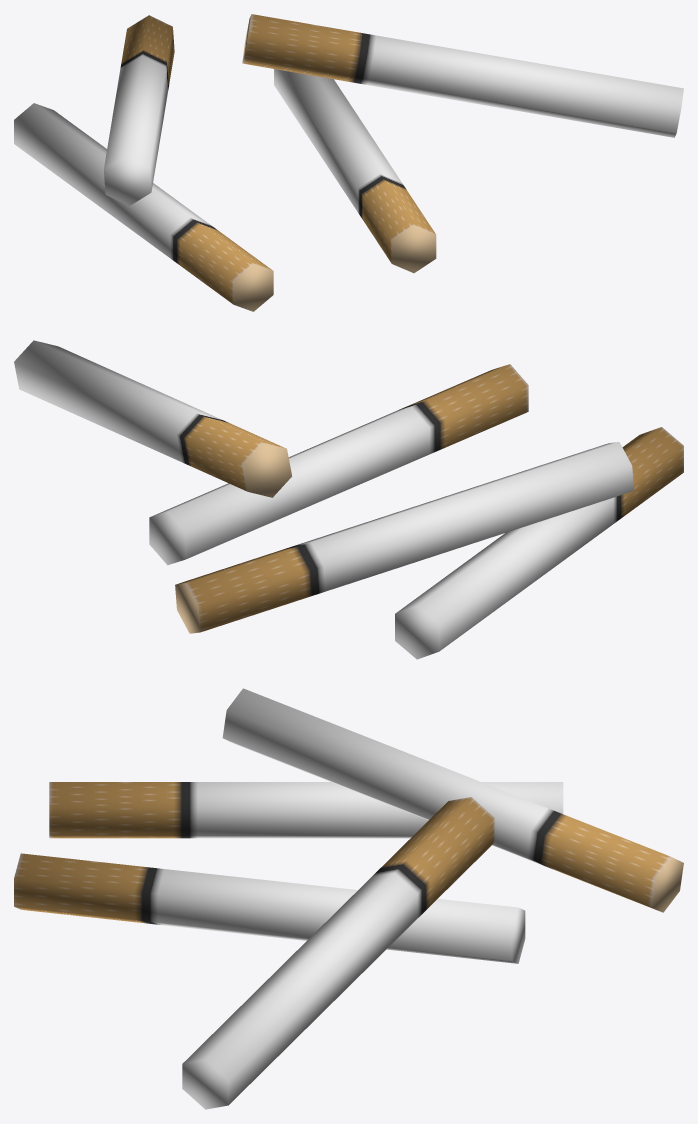
The model's file is CigaretteSimple.fbx.
3 renders of one model, top to bottom at view 1: azimuth 30°, elevation 25°; view 2: azimuth 150°, elevation 25°; view 3: azimuth 270°, elevation 25°, orthographic. The views are drawn at different scales.
Visible parts, largest first — view 1: Cylinder; view 2: Cylinder; view 3: Cylinder.
Part boxes in pixels (x1=…): Cylinder: x1=14, y1=14, x2=683, y2=311; Cylinder: x1=14, y1=340, x2=683, y2=659; Cylinder: x1=14, y1=688, x2=683, y2=1109.
Size of the model in its own units: 0.1261 by 0.026 by 0.1103.
